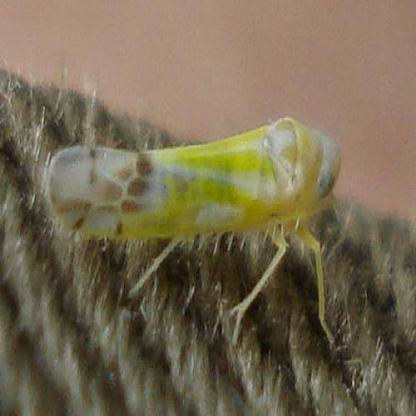green-leafhopper: (49, 119, 344, 252)
